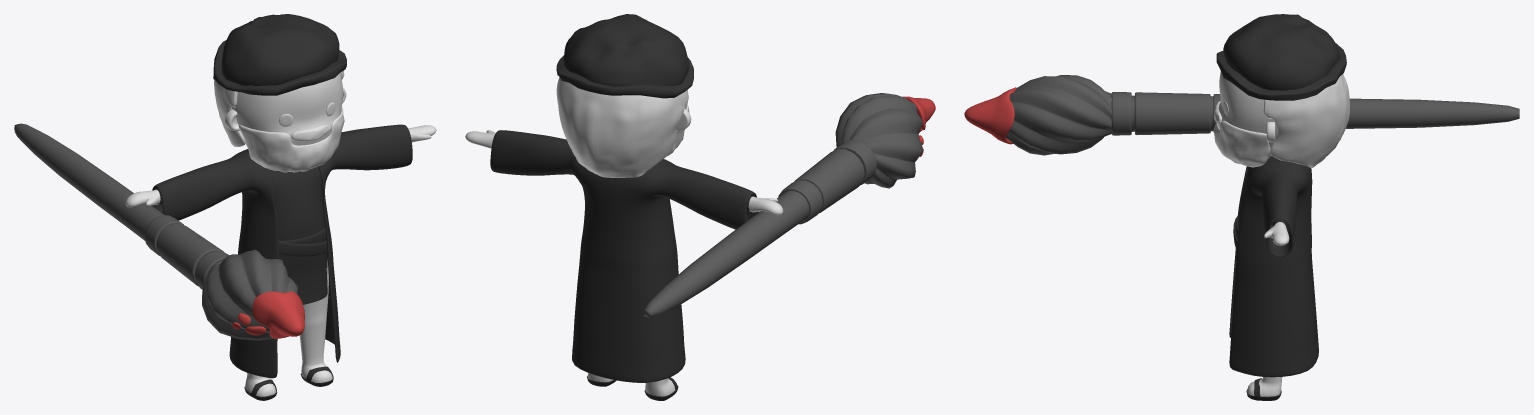
File: DaVinci_BigB_Test.fbx
3 renders of one model, left to right at view 1: azimuth 30°, elevation 25°; view 2: azimuth 150°, elevation 25°; view 3: azimuth 270°, elevation 25°, orthographic. The views are drawn at different scales.
Visible parts, largest first — view 1: Robe, Top, Bristles, Shirt, Handle, Head, Ferrule, Beard, Legs, PaintBullet, Rim, Hair (+3 smaller); view 2: Robe, Hair, Top, Handle, Bristles, Ferrule, Rim, Legs, PaintBullet, Hand_R; view 3: Robe, Bristles, Top, Hair, Ferrule, Handle, Rim, Head, Beard, PaintBullet, Legs.
Boxes of the visible parts, x1,y1,x2,y2 form: Robe: (152, 124, 412, 378); Top: (221, 14, 339, 85); Bristles: (202, 249, 297, 340); Shirt: (156, 166, 327, 304); Handle: (14, 123, 164, 240); Head: (232, 72, 343, 145); Ferrule: (144, 215, 228, 289); Beard: (238, 106, 344, 172); Legs: (245, 259, 332, 396); PaintBullet: (232, 291, 304, 338); Rim: (213, 40, 346, 95); Hair: (214, 70, 344, 146); Robe: (490, 130, 758, 382); Hair: (556, 77, 688, 177); Top: (563, 14, 689, 86); Handle: (644, 190, 809, 317); Bristles: (835, 93, 923, 188); Ferrule: (778, 140, 876, 224); Rim: (556, 55, 693, 98); Legs: (588, 373, 675, 396); PaintBullet: (902, 96, 935, 156); Hand_R: (748, 196, 783, 215); Robe: (1229, 160, 1318, 377); Bristles: (1006, 75, 1111, 155); Top: (1223, 14, 1340, 90); Hair: (1263, 74, 1349, 167); Ferrule: (1111, 92, 1220, 135); Handle: (1346, 98, 1519, 128); Rim: (1216, 43, 1346, 100); Head: (1217, 71, 1277, 148); Beard: (1214, 120, 1271, 167); PaintBullet: (964, 87, 1016, 144); Legs: (1247, 377, 1282, 396).
Size of the model in its own units: 17.01 by 17.53 by 24.66.
